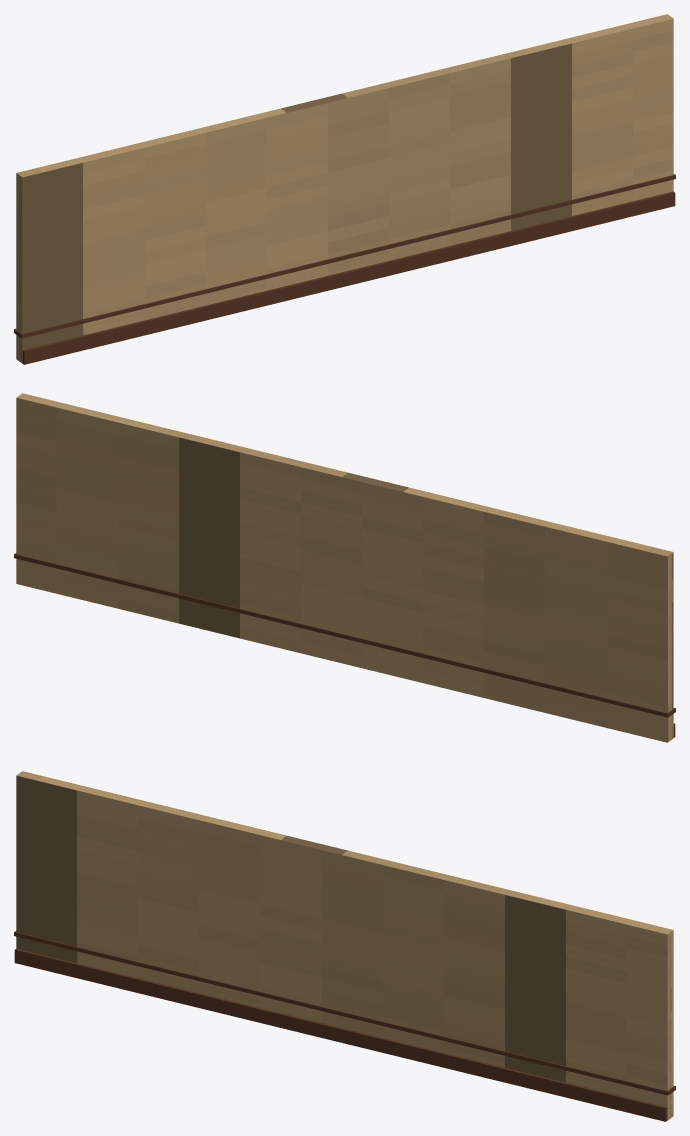
The model's file is wall_n.glb.
The picture shows the model from 3 angles, top to bottom: view 1: azimuth 30°, elevation 25°; view 2: azimuth 150°, elevation 25°; view 3: azimuth 330°, elevation 25°; orthographic projection.
Parts seen in each view (by area): view 1: Box1, Box2, Box3, Box4; view 2: Box1, Box3, Box4; view 3: Box1, Box2, Box3, Box4.
Boxes of the visible parts, x1,y1,x2,y2 form: Box1: [16, 14, 673, 363]; Box2: [22, 191, 675, 364]; Box3: [16, 180, 673, 363]; Box4: [14, 174, 675, 338]; Box1: [16, 393, 673, 742]; Box3: [16, 559, 673, 742]; Box4: [14, 553, 675, 717]; Box1: [16, 771, 673, 1120]; Box2: [14, 948, 667, 1121]; Box3: [16, 937, 673, 1119]; Box4: [14, 931, 675, 1095].
Bounding box in the file's own units: 9.19 × 2.5 × 0.21.
Materials: 2 (1 with a texture image).
